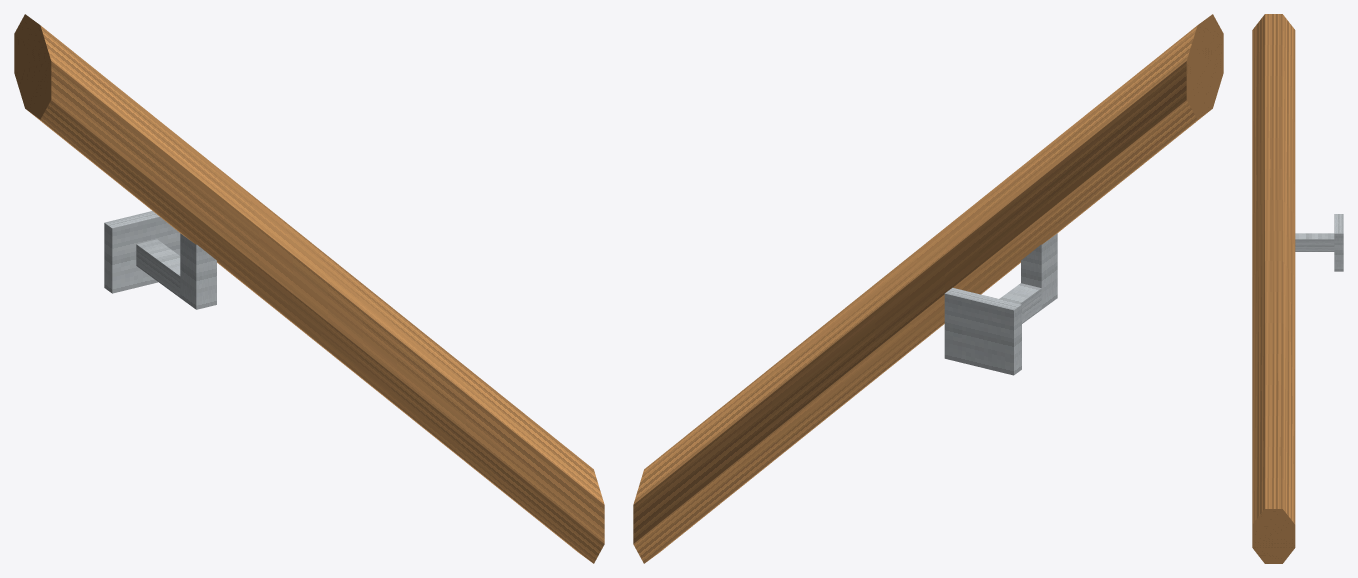
Rendered from mid_neg.obj.
3 views of the same model, side by side, from view 1: azimuth 30°, elevation 25°; view 2: azimuth 150°, elevation 25°; view 3: azimuth 270°, elevation 25° (orthographic). The views are drawn at different scales.
Parts seen in each view (by area): view 1: handrail_wall_oak_round_mid_neg; view 2: handrail_wall_oak_round_mid_neg; view 3: handrail_wall_oak_round_mid_neg.
Boxes of the visible parts, x1=… form: handrail_wall_oak_round_mid_neg: x1=14, y1=14, x2=604, y2=563; handrail_wall_oak_round_mid_neg: x1=633, y1=14, x2=1223, y2=563; handrail_wall_oak_round_mid_neg: x1=1252, y1=14, x2=1343, y2=563.
Bounding box in the file's own units: 1 × 1.16 × 0.2452.
